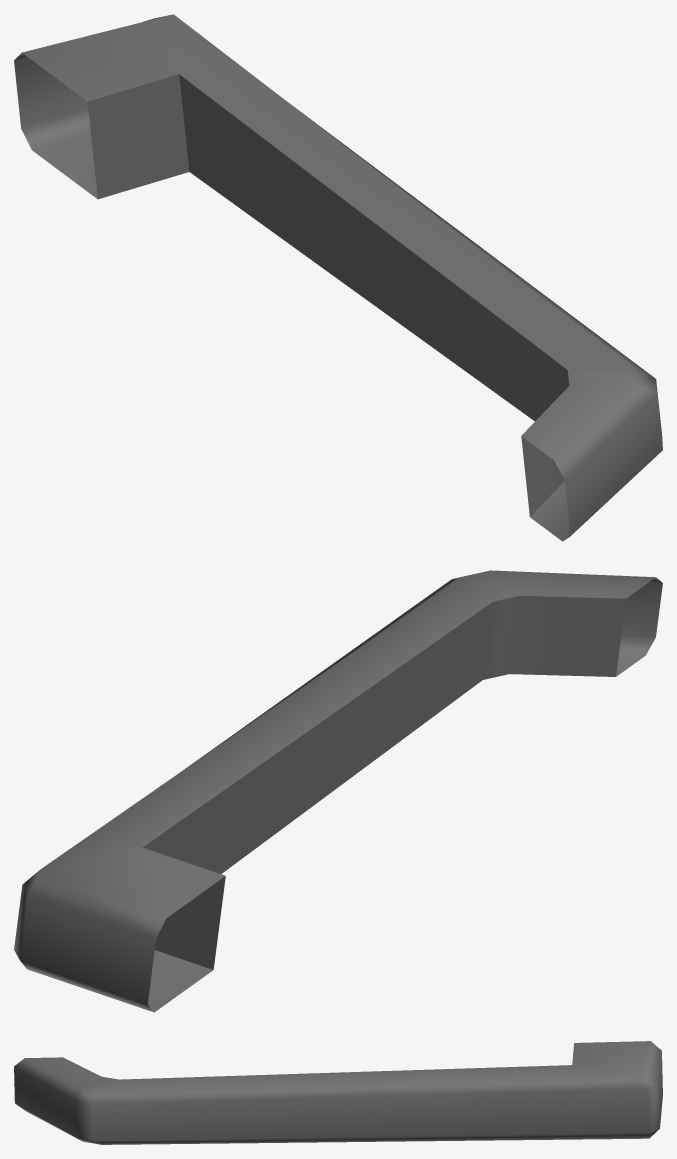
File: kodiak.glb
3 views of the same model, one above another, from view 1: azimuth 30°, elevation 25°; view 2: azimuth 150°, elevation 25°; view 3: azimuth 270°, elevation 25° (orthographic). The views are drawn at different scales.
Parts seen in each view (by area): view 1: polySurface21.5; view 2: polySurface21.5; view 3: polySurface21.5.
Boxes of the visible parts, left/top/right/bottom form: polySurface21.5: left=14, top=14, right=662, bottom=541; polySurface21.5: left=14, top=570, right=662, bottom=1012; polySurface21.5: left=14, top=1041, right=662, bottom=1144.
Size of the model in its own units: 0.000402 by 0.000266 by 0.00219.
1 material, 1 textured.
